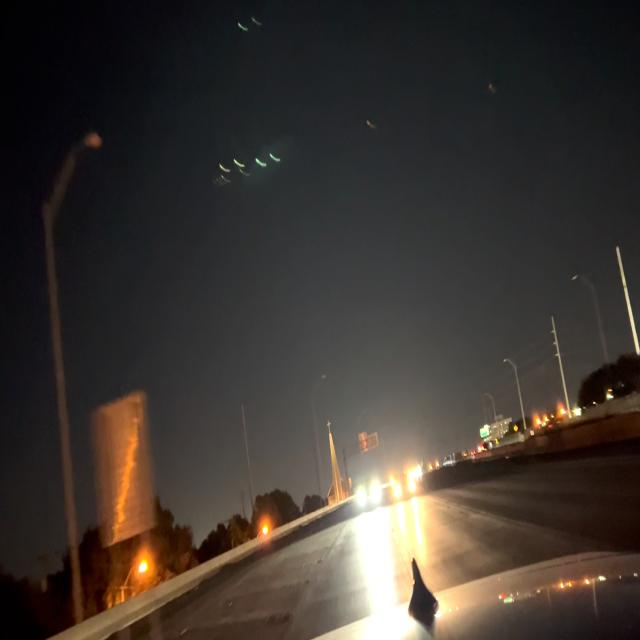back-of-sign: (93, 391, 157, 546)
